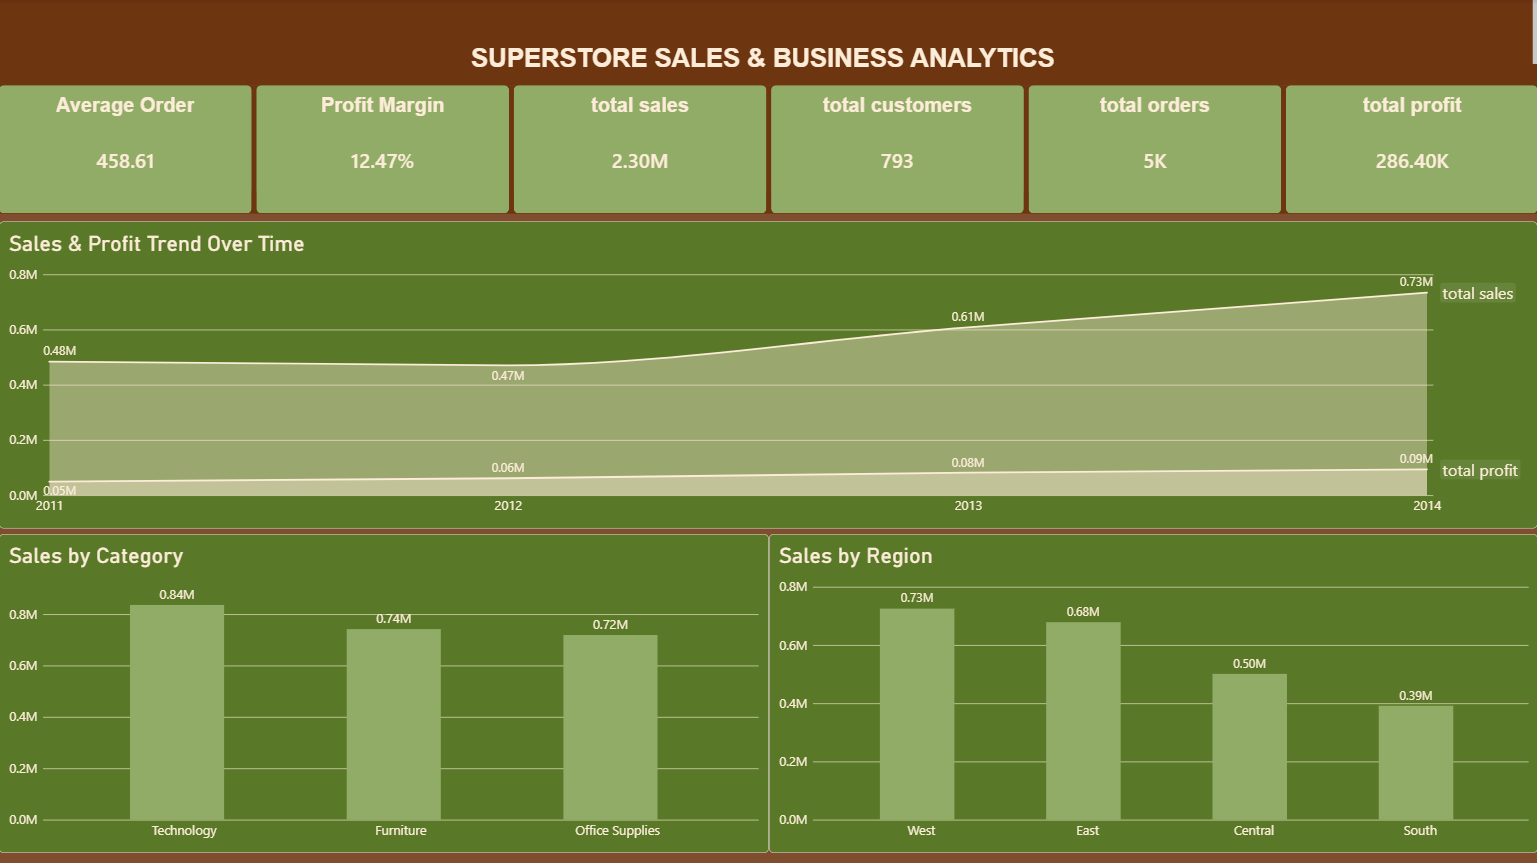

This screenshot's page, from the dashboard's own definition file:
{"tool":"powerbi","page":{"name":"Executive Overview","canvas":[2560,1440],"ordinal":0},"visuals":[{"type":"cardVisual","fields":{"Data":["Superstore.Average_order_value","Superstore.profit margin","Superstore.total sales","Superstore.total customers","Superstore.total orders","Superstore.total profit"]},"box":[0,143.3,2560,213.3],"z":0},{"type":"textbox","box":[0,0,2560,143.3],"z":1000},{"type":"lineChart","title":"Sales & Profit Trend Over Time","fields":{"Category":["Superstore.Order Date.Variation.Date Hierarchy.Year","Superstore.Order Date.Variation.Date Hierarchy.Quarter","Superstore.Order Date.Variation.Date Hierarchy.Month","Superstore.Order Date.Variation.Date Hierarchy.Day"],"Y":["Superstore.total sales","Superstore.total profit"]},"box":[0,370,2560,510],"z":1001},{"type":"columnChart","title":"Sales by Category","fields":{"Category":["Superstore.Category"],"Y":["Superstore.total sales"]},"box":[0,890,1280,530],"z":1002},{"type":"columnChart","title":"Sales by Region","fields":{"Category":["Superstore.Region"],"Y":["Superstore.total sales"]},"box":[1280,890,1280,530],"z":1003}]}

Visuals, with their boxes in screenshot pixels (x1, y1, x2, y2), scaled from the page's 2560x1440 canvas onto the 1537x863 screenshot:
cardVisual - Superstore.Average_order_value x Superstore.profit margin: (0,86,1536,214)
textbox: (0,0,1536,86)
"Sales & Profit Trend Over Time" lineChart: (0,222,1536,527)
"Sales by Category" columnChart: (0,533,768,851)
"Sales by Region" columnChart: (768,533,1536,851)
